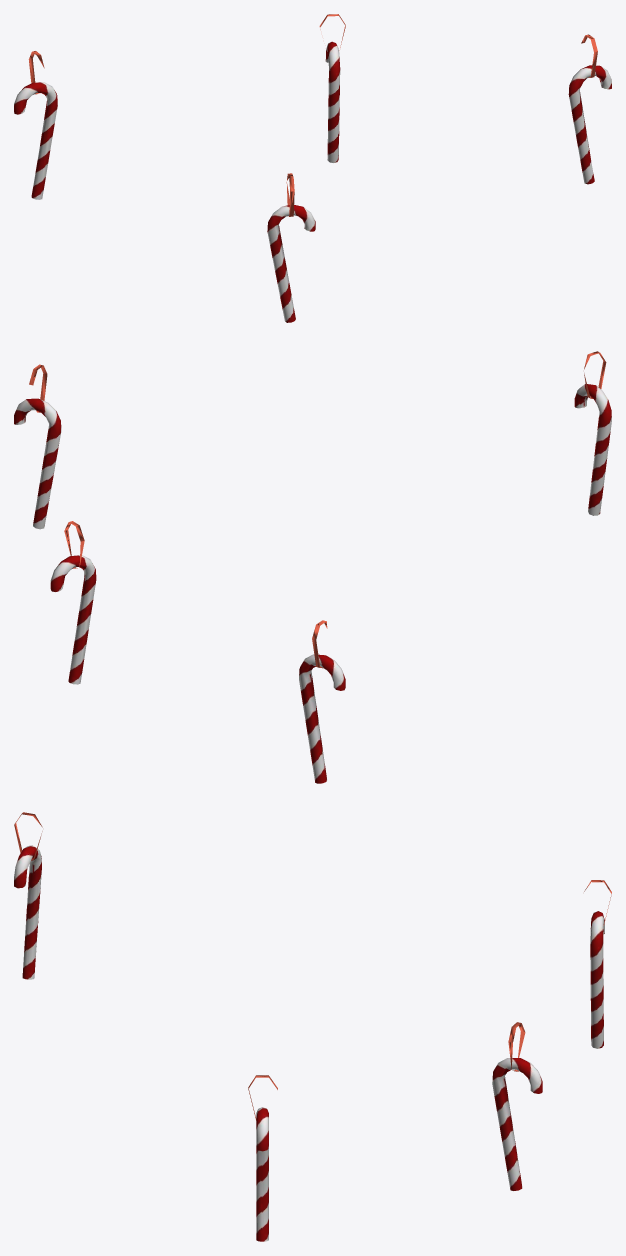
Rendered from candycanes_treeset.glb.
The picture shows the model from 3 angles, top to bottom: view 1: azimuth 30°, elevation 25°; view 2: azimuth 150°, elevation 25°; view 3: azimuth 270°, elevation 25°; orthographic projection. The views are drawn at different scales.
Parts seen in each view (by area): view 1: candycanes_treeset_LOD0; view 2: candycanes_treeset_LOD0; view 3: candycanes_treeset_LOD0.
Boxes of the visible parts, bbox=[...] form: candycanes_treeset_LOD0: bbox=[14, 14, 611, 322]; candycanes_treeset_LOD0: bbox=[14, 351, 611, 783]; candycanes_treeset_LOD0: bbox=[14, 812, 611, 1241].
Size of the model in its own units: 1.44 by 0.6335 by 1.47.
Materials: 1 (1 with a texture image).
